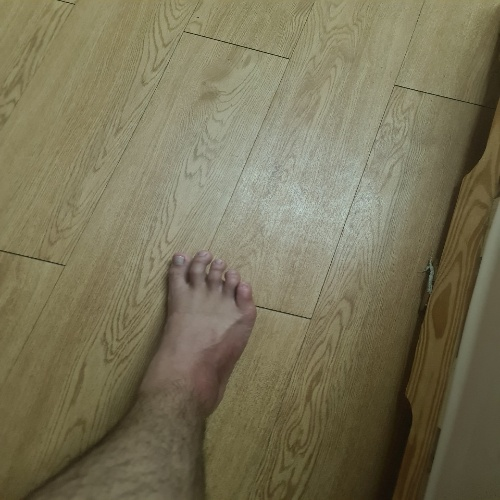3: (168, 252, 190, 288)
Top_Foot: (162, 252, 258, 424)
